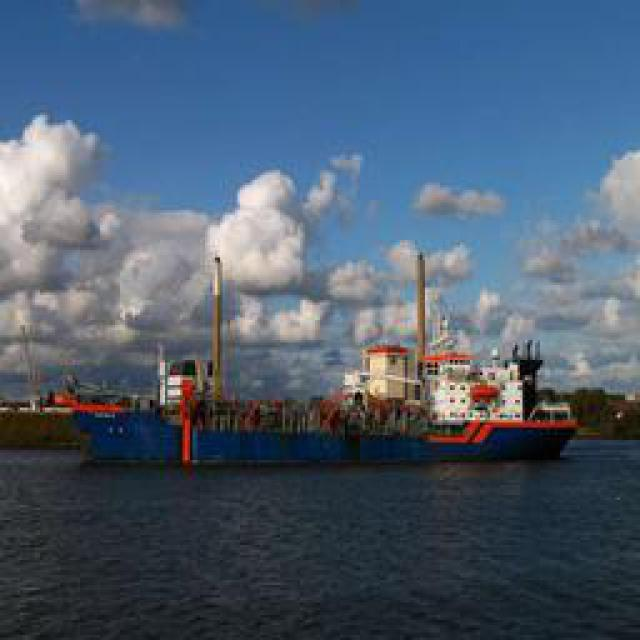Ship: (46, 366, 589, 470)
